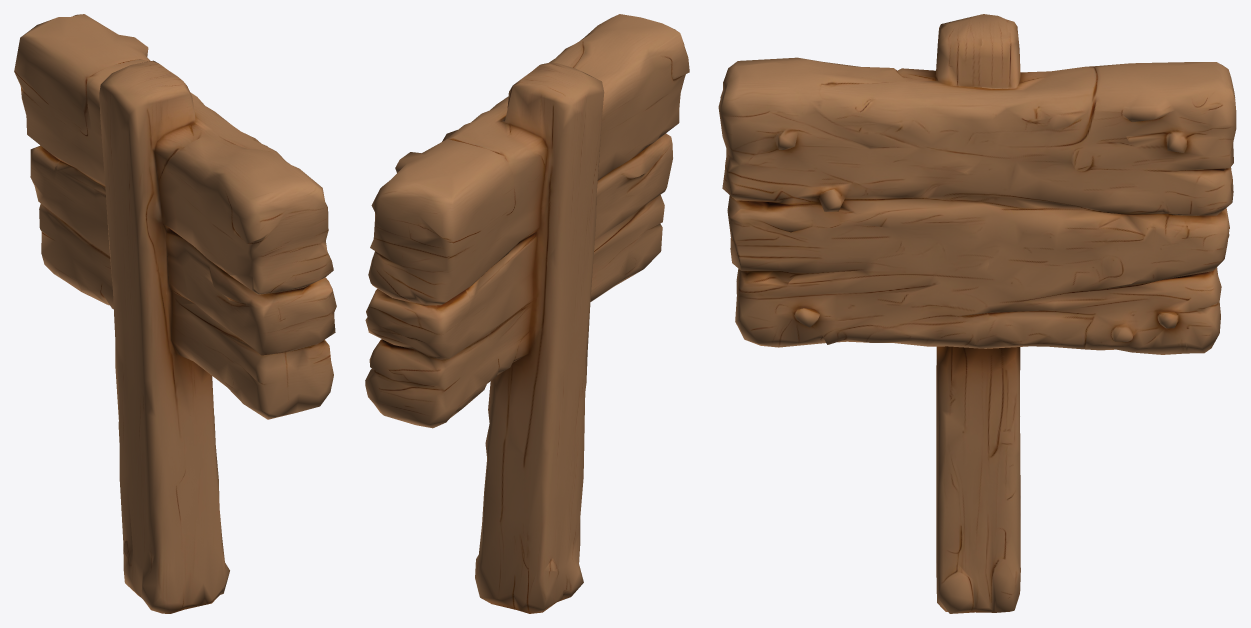
Rendered from site_sign.glb.
3 views of the same model, side by side, from view 1: azimuth 30°, elevation 25°; view 2: azimuth 150°, elevation 25°; view 3: azimuth 270°, elevation 25° (orthographic). The views are drawn at different scales.
Parts seen in each view (by area): view 1: tripo_node_731dcfba-4cad-4dde-af0d-c819478925e1; view 2: tripo_node_731dcfba-4cad-4dde-af0d-c819478925e1; view 3: tripo_node_731dcfba-4cad-4dde-af0d-c819478925e1.
Boxes of the visible parts, <box> form: tripo_node_731dcfba-4cad-4dde-af0d-c819478925e1: <box>14,14,336,613</box>; tripo_node_731dcfba-4cad-4dde-af0d-c819478925e1: <box>365,14,689,613</box>; tripo_node_731dcfba-4cad-4dde-af0d-c819478925e1: <box>718,14,1236,613</box>.
Size of the model in its own units: 0.2481 by 1 by 0.8312.
Materials: 1 (1 with a texture image).
